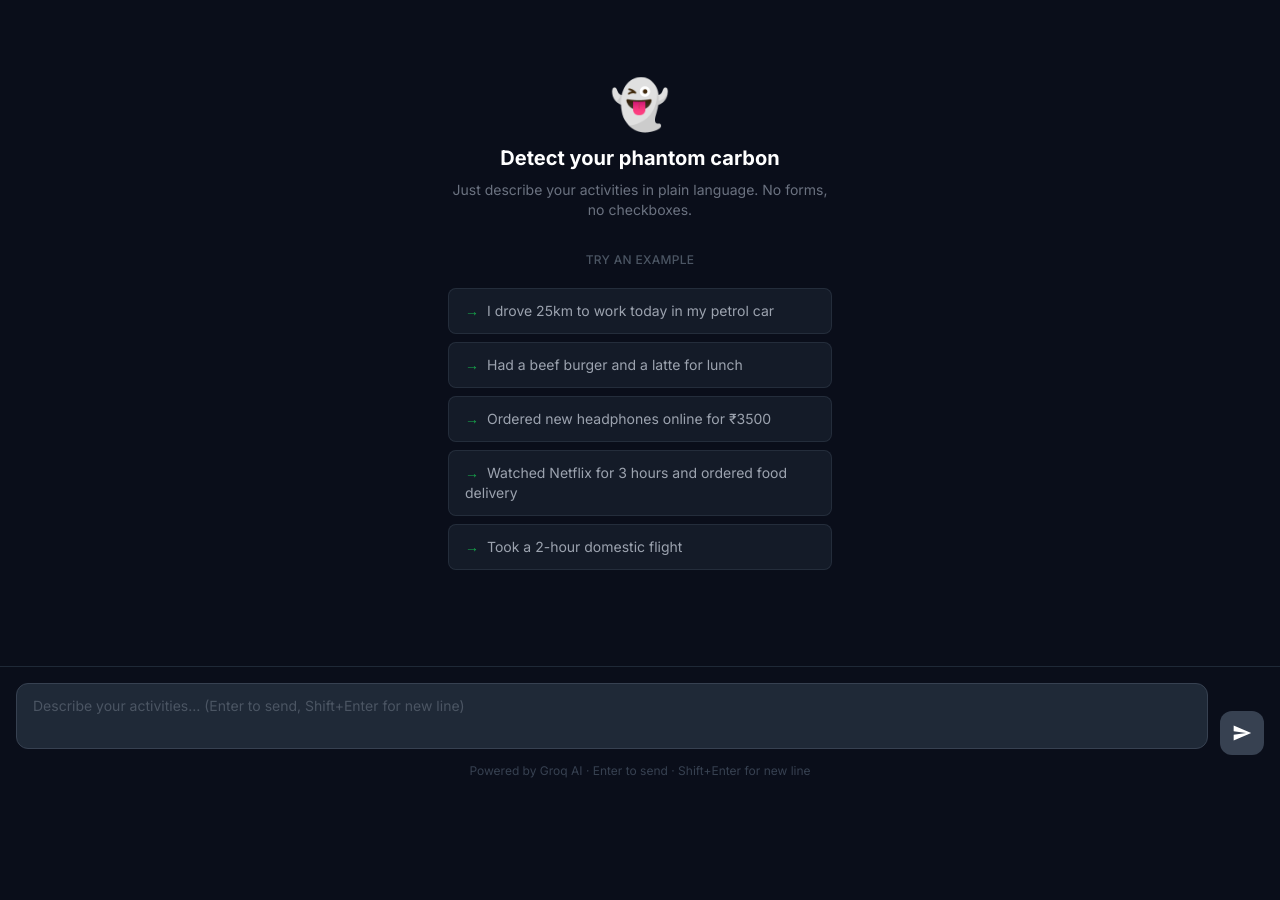
Test: ChatInterface › displays carbon badge after successful extraction
Step 1. Type "I drove 10km to work today in my petrol car" into the text box named "Describe your carbon activities" → [612, 716], box [16,683,1208,749]
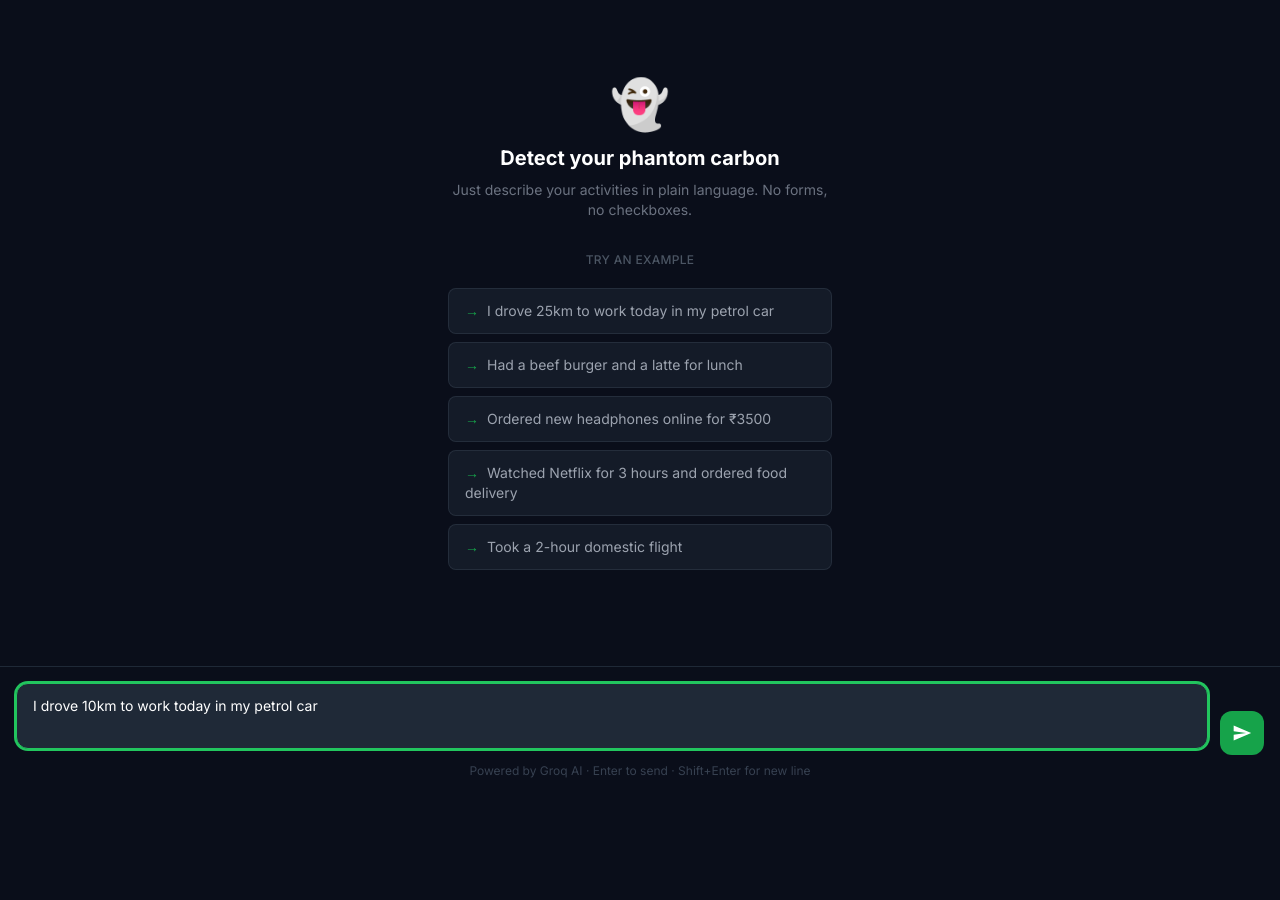
Step 2. Click the button named "Send message" → [1242, 733], box [1220,711,1264,755]
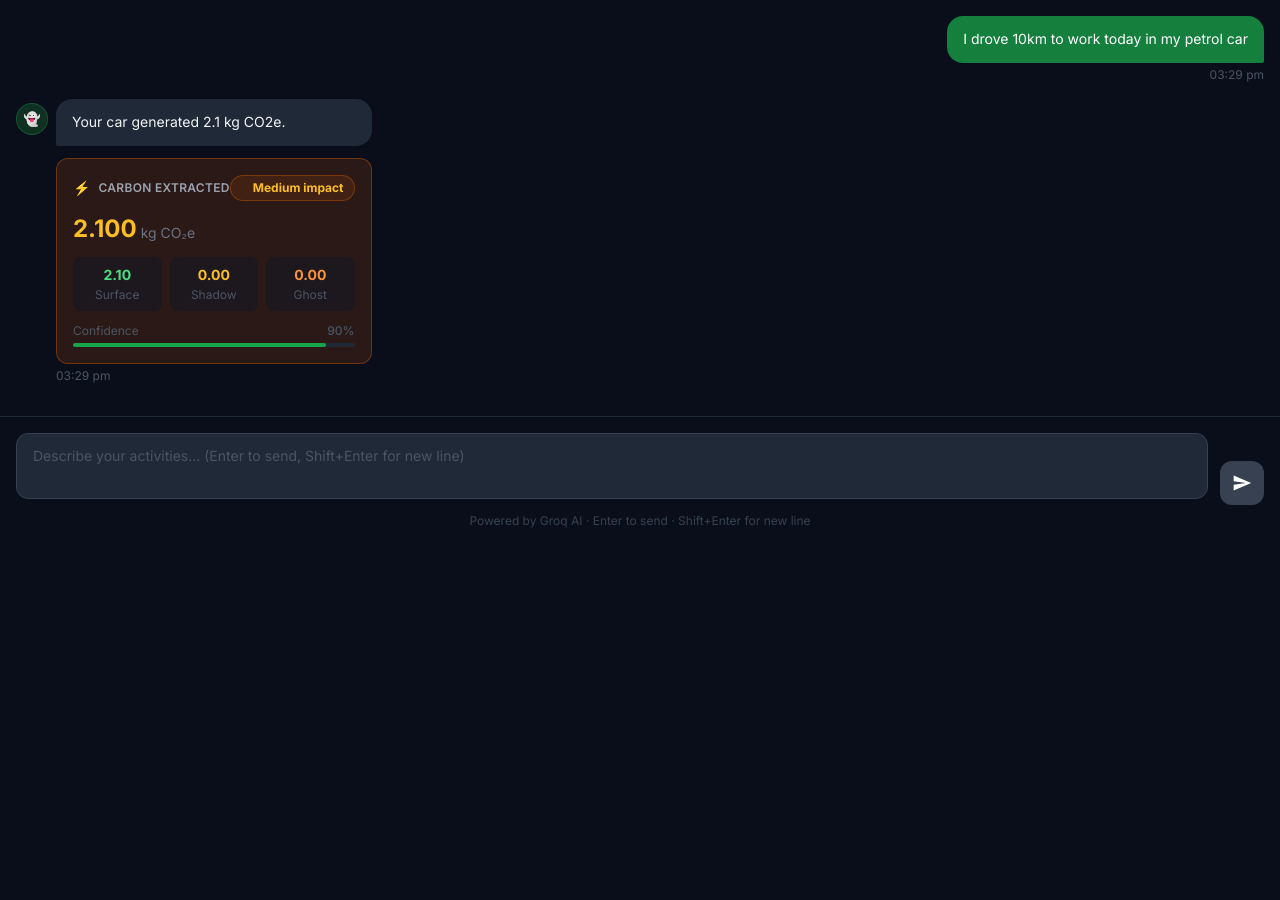
Expected: the text "Your car generated 2.1 kg CO2e." is shown, [72,113,286,130]
